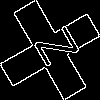Z: (25, 25, 80, 74)
